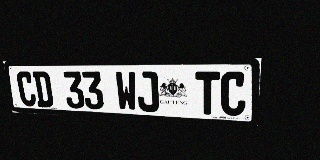3: (82, 71, 104, 110), (63, 71, 85, 109)
C: (220, 72, 247, 116), (16, 71, 37, 107)
D: (32, 71, 54, 107)
J: (136, 71, 159, 112)
T: (195, 71, 220, 115)
W: (115, 71, 138, 111)
